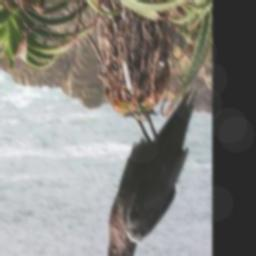Crow: (95, 86, 202, 256)
